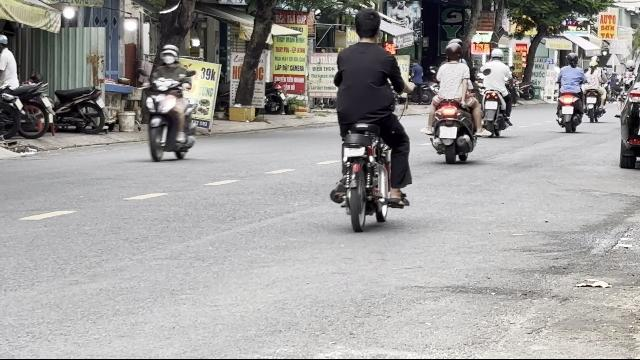helmet: (158, 44, 178, 66), (443, 41, 462, 61), (491, 48, 504, 60), (0, 33, 8, 50)
licenseplate: (439, 126, 457, 138), (485, 101, 497, 109), (562, 106, 574, 114)
motorcyclist: (326, 6, 416, 232), (424, 38, 481, 164), (141, 42, 199, 162), (478, 47, 514, 136)
nohelmet: (352, 9, 382, 42)
